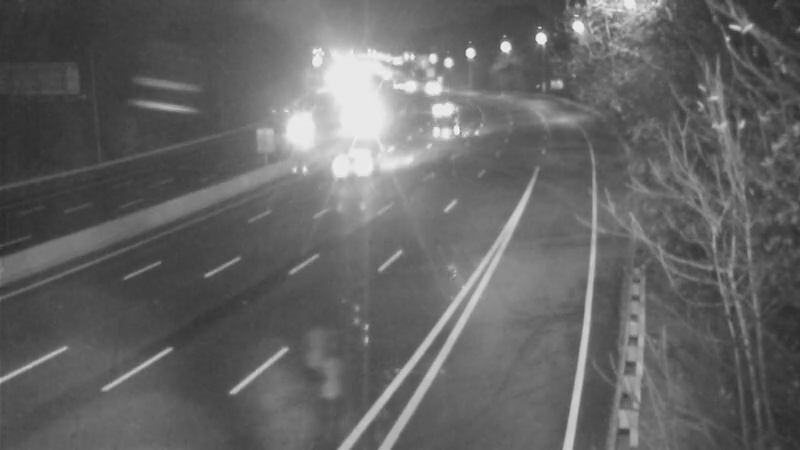vehicle: (312, 126, 392, 206), (419, 80, 469, 130), (414, 107, 464, 157), (273, 109, 323, 159), (335, 95, 385, 145)
